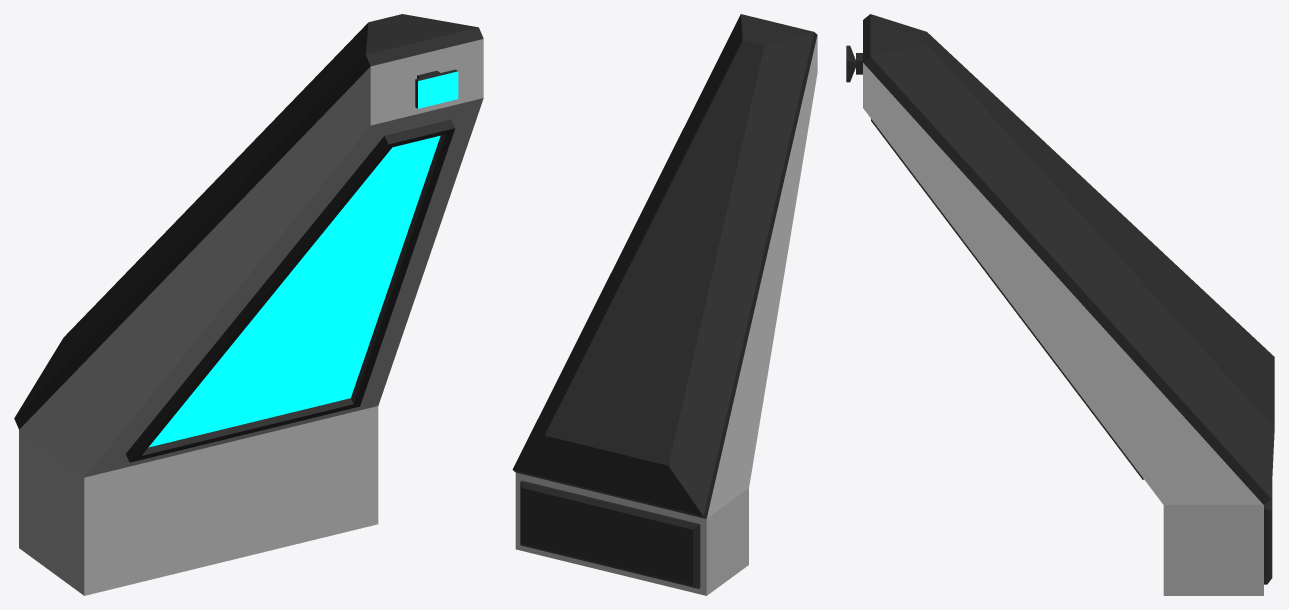
File: Archway.fbx
3 renders of one model, left to right at view 1: azimuth 30°, elevation 25°; view 2: azimuth 150°, elevation 25°; view 3: azimuth 270°, elevation 25°, orthographic. The views are drawn at different scales.
Parts seen in each view (by area): view 1: Cube.001; view 2: Cube.001; view 3: Cube.001.
Boxes of the visible parts, x1,y1,x2,y2 form: Cube.001: [14, 14, 483, 595]; Cube.001: [512, 14, 817, 595]; Cube.001: [846, 14, 1274, 595].
Bounding box in the file's own units: 520 × 1113 × 855.
